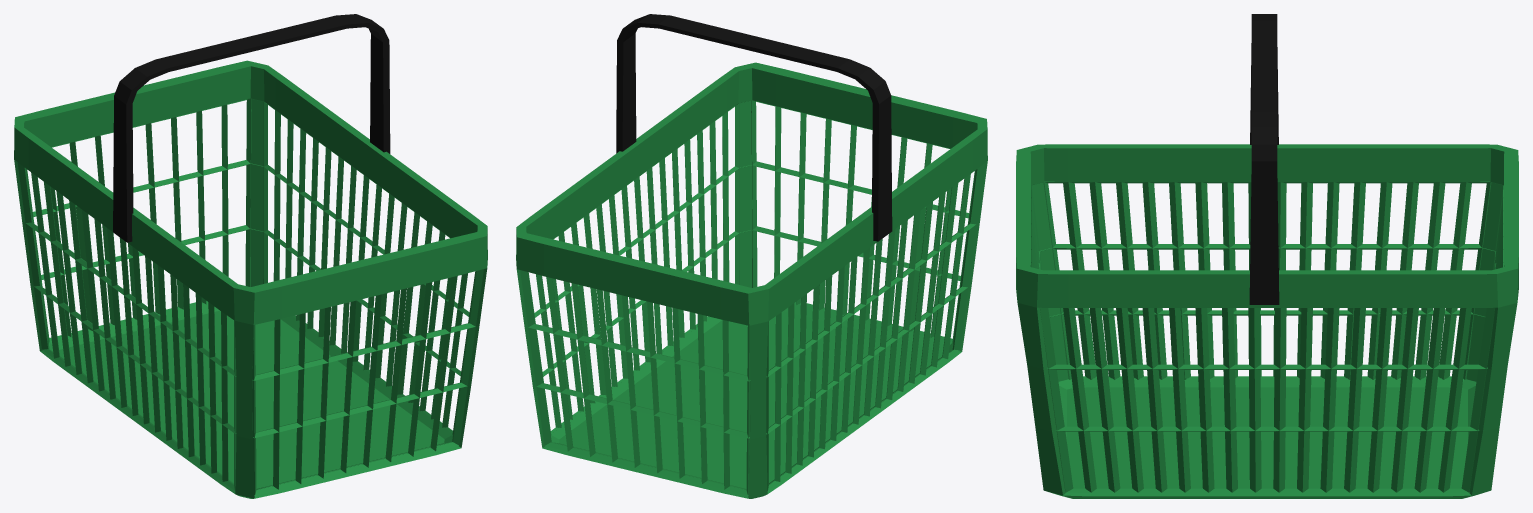
Rendered from basket.gltf.
The picture shows the model from 3 angles, left to right: view 1: azimuth 30°, elevation 25°; view 2: azimuth 150°, elevation 25°; view 3: azimuth 270°, elevation 25°; orthographic projection. The views are drawn at different scales.
Visible parts, largest first — view 1: basketcase, mesh, handle; view 2: basketcase, mesh, handle; view 3: basketcase, mesh, handle.
Part boxes in pixels (x1,y1,x2,y2): basketcase: (14, 60, 487, 498); mesh: (17, 98, 483, 495); handle: (113, 14, 390, 242); basketcase: (516, 62, 987, 498); mesh: (520, 100, 984, 495); handle: (616, 14, 892, 241); basketcase: (1016, 144, 1518, 498); mesh: (1031, 181, 1503, 492); handle: (1249, 14, 1279, 304).
Size of the model in its own units: 1.58 by 2.07 by 2.49.
